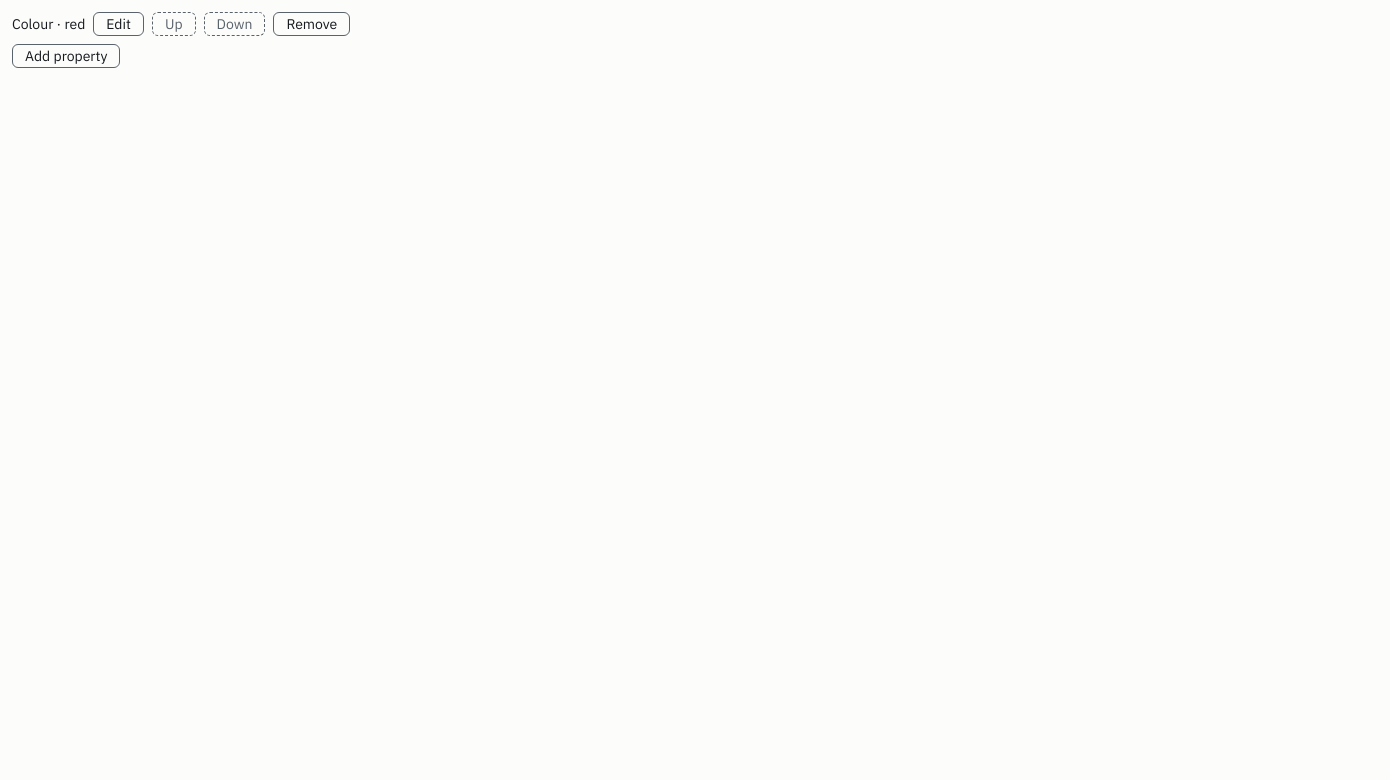
Scenario: the properties section › the name field shows for "other" only
Step 1. Click the button with aria-label "Edit property colour" → (119, 24), box [93,12,144,36]
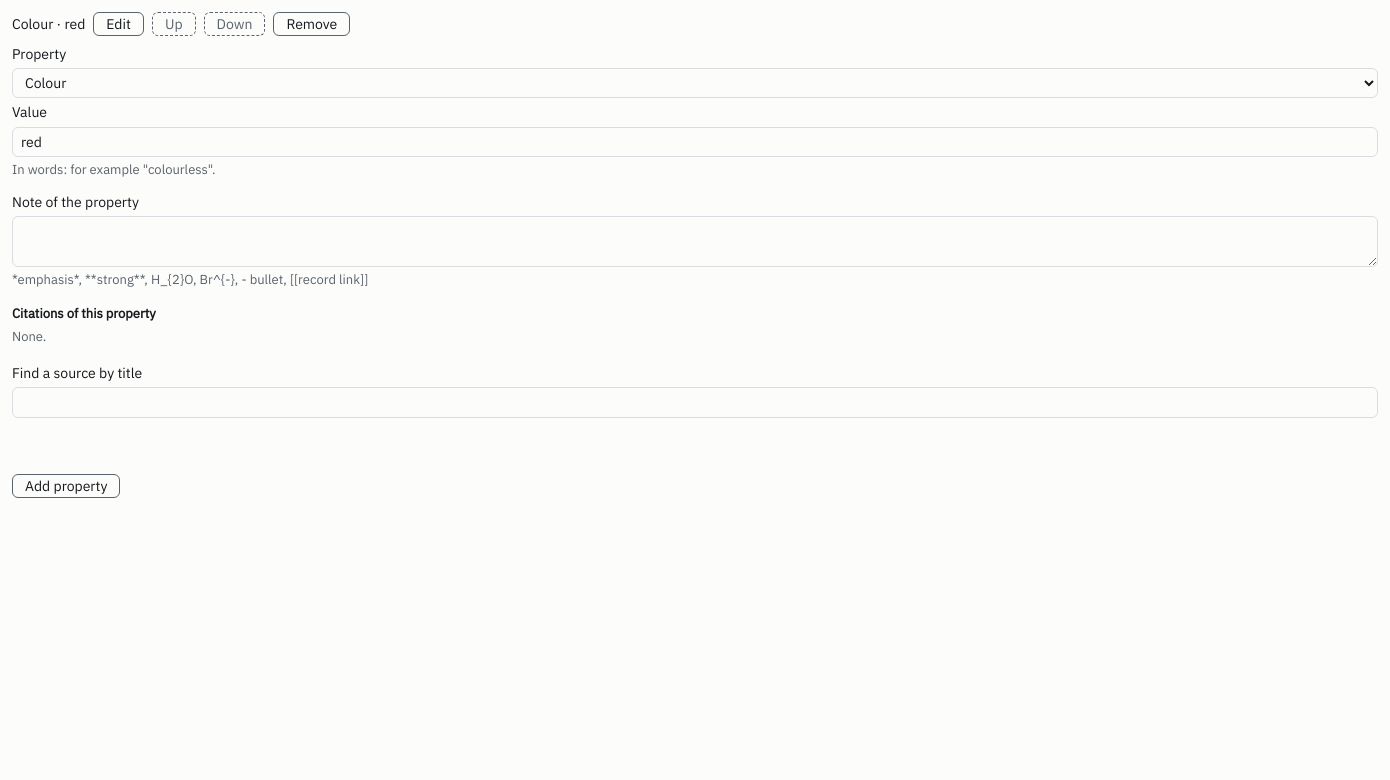
Expected: the field labelled "Name of the property (required)" is not shown
Step 2. Select "Other" in the dropdown labelled "Property" → (695, 83), box [12,68,1378,98]
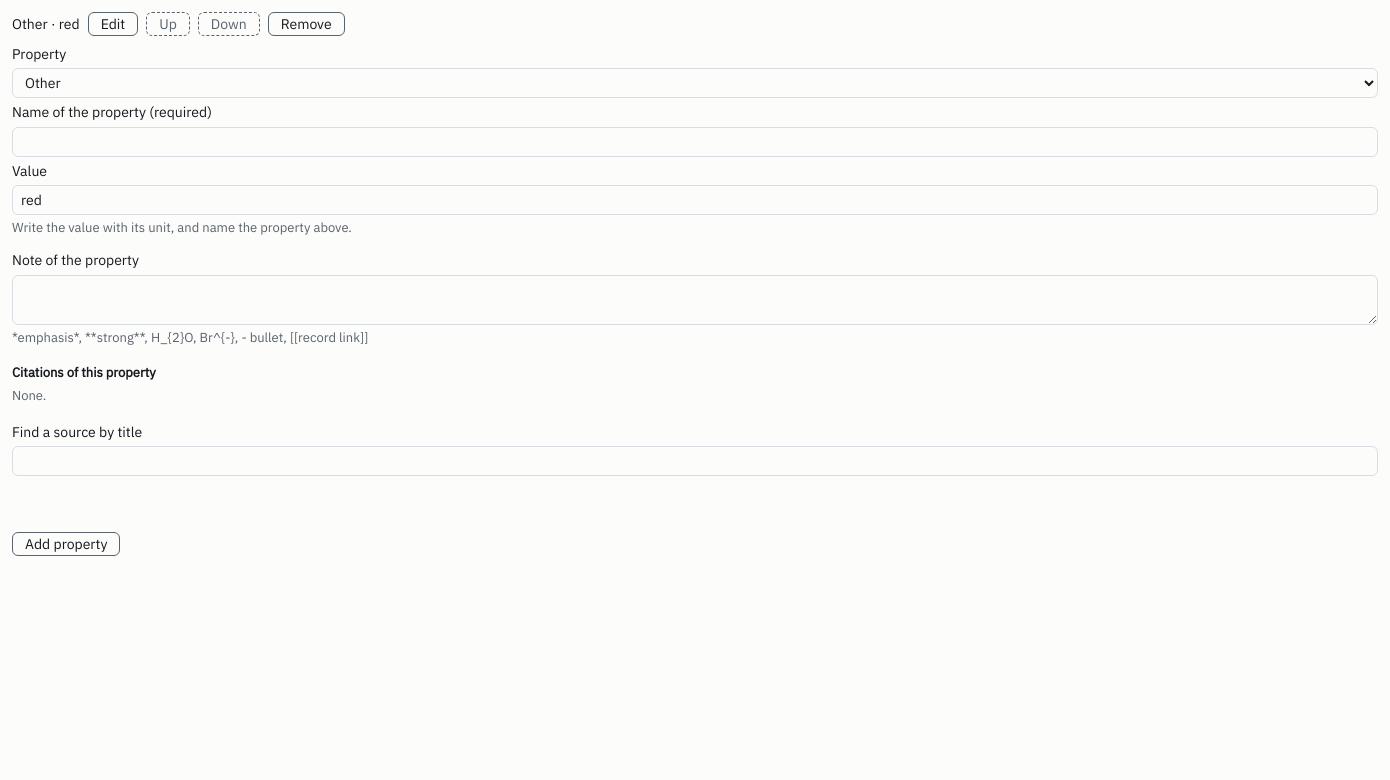
Expected: the field labelled "Name of the property (required)" is shown, [12,127,1378,157]
